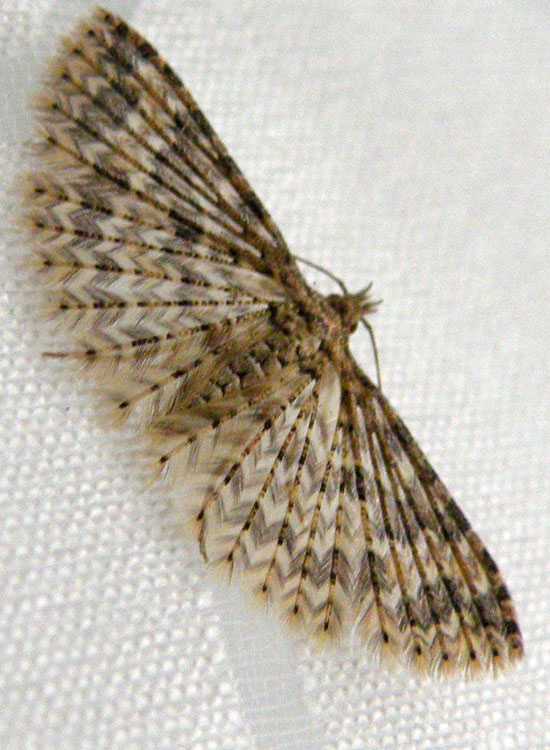Alucitidae: (9, 1, 529, 683)
moth: (11, 2, 531, 685)
